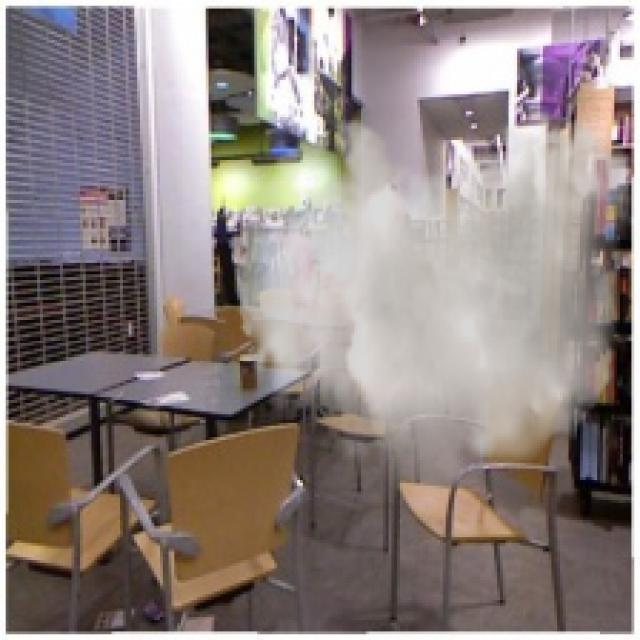Smoke: (235, 106, 634, 520)
